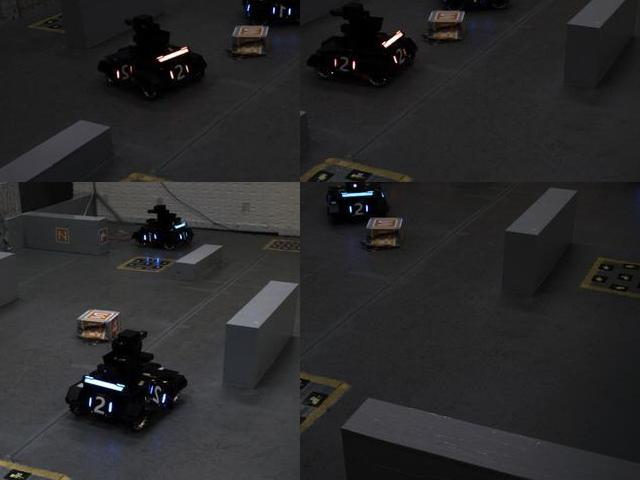armor: (83, 390, 117, 421), (328, 50, 361, 77), (146, 382, 175, 412), (113, 59, 136, 88), (165, 60, 193, 83), (270, 0, 296, 22), (341, 201, 372, 219), (391, 44, 412, 69), (141, 228, 162, 244), (463, 0, 494, 8)
